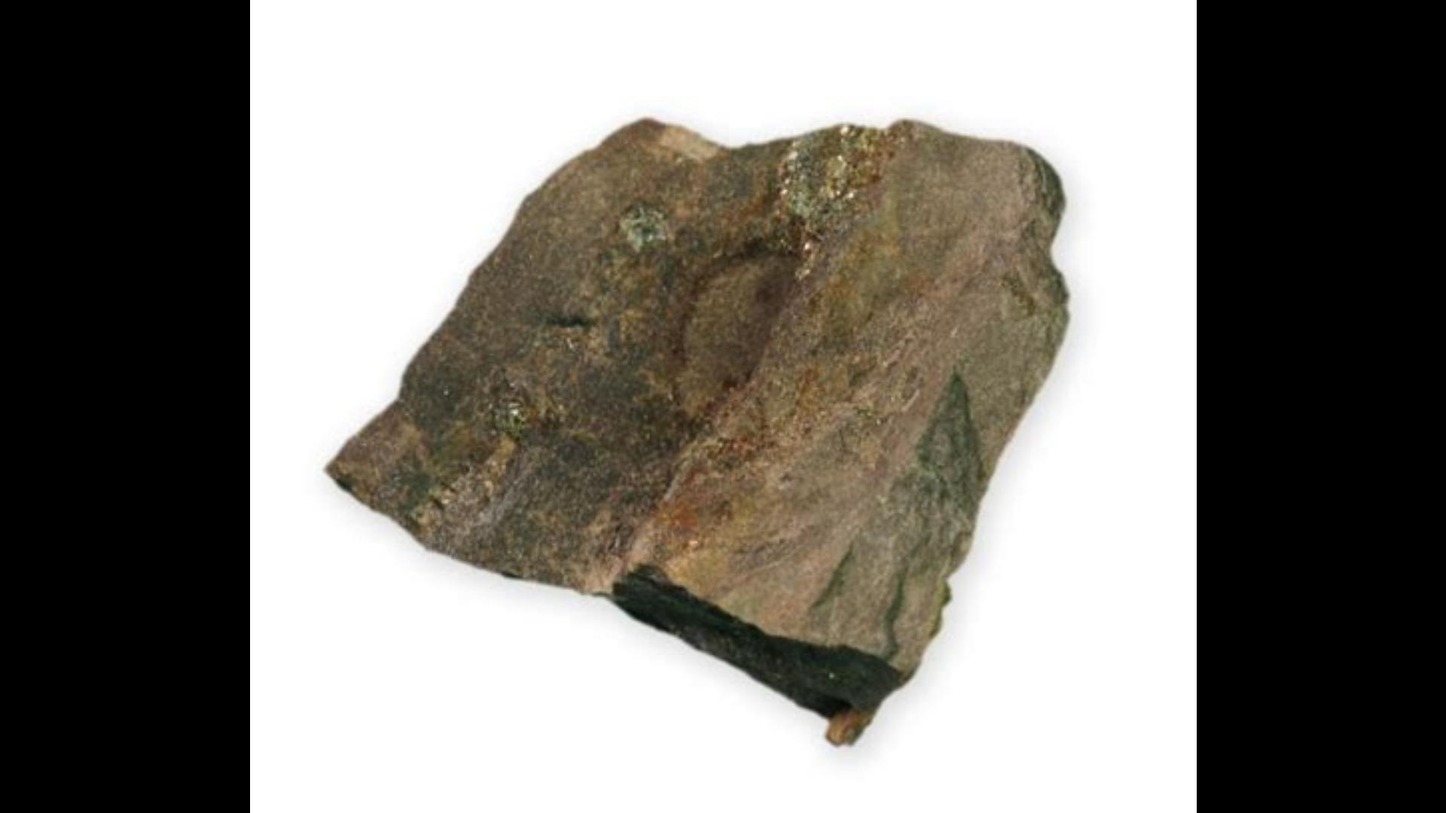rock: (327, 122, 1065, 737)
